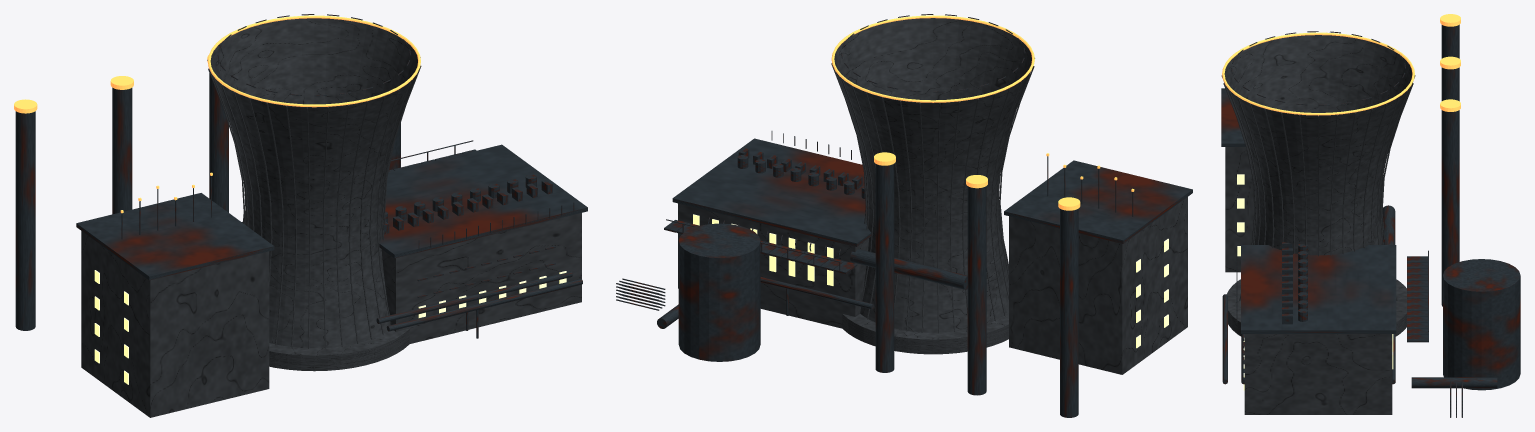
The model's file is geothermal-plant-lod0.glb.
3 views of the same model, side by side, from view 1: azimuth 30°, elevation 25°; view 2: azimuth 150°, elevation 25°; view 3: azimuth 270°, elevation 25° (orthographic). The views are drawn at different scales.
Visible parts, largest first — view 1: CinematicBatch_concrete, CinematicBatch_steel, CinematicBatch_amber, CinematicBatch_window; view 2: CinematicBatch_concrete, CinematicBatch_steel, CinematicBatch_amber, CinematicBatch_window; view 3: CinematicBatch_concrete, CinematicBatch_steel, CinematicBatch_amber, CinematicBatch_window.
Boxes of the visible parts, x1,y1,x2,y2 form: CinematicBatch_concrete: (81,18,581,417); CinematicBatch_steel: (15,14,587,338); CinematicBatch_amber: (14,15,420,213); CinematicBatch_window: (94,270,566,384); CinematicBatch_concrete: (678,18,1187,374); CinematicBatch_steel: (616,14,1192,417); CinematicBatch_amber: (831,15,1134,210); CinematicBatch_window: (693,214,1168,348); CinematicBatch_concrete: (1221,35,1415,414); CinematicBatch_steel: (1221,24,1520,417); CinematicBatch_amber: (1222,14,1460,115); CinematicBatch_window: (1237,174,1393,390).
Bounding box in the file's own units: 64.35 × 35.08 × 38.5.
Materials: 4 (2 with a texture image).
